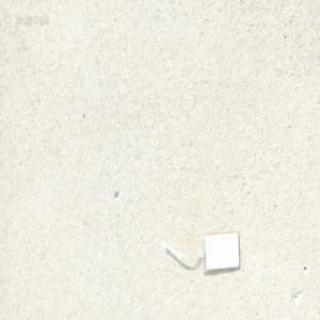LuggageTagtrack_idkeyframe: (157, 226, 239, 272)
